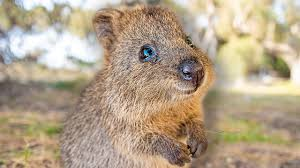quokka: (56, 1, 214, 168)
